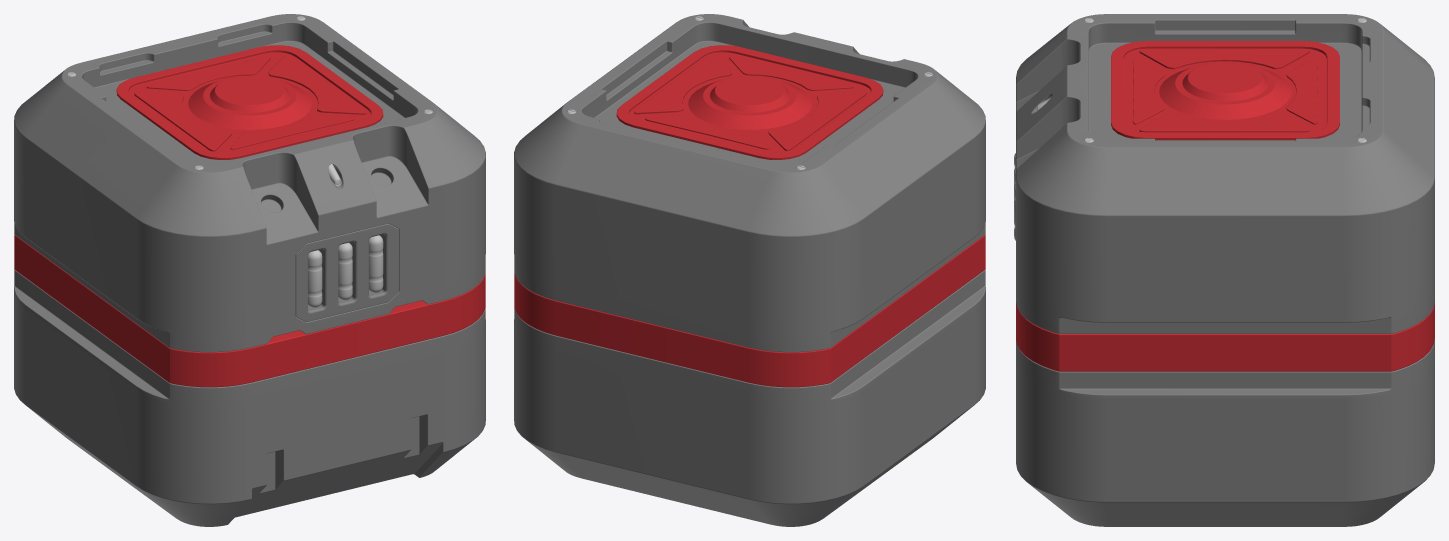
Rendered from SmartBox.glb.
The picture shows the model from 3 angles, left to right: view 1: azimuth 30°, elevation 25°; view 2: azimuth 150°, elevation 25°; view 3: azimuth 270°, elevation 25°; orthographic projection. The views are drawn at different scales.
Visible parts, largest first — view 1: Cube.011, Plane.002, Cube, Cube.005, Sphere; view 2: Cube.011, Plane.002, Cube; view 3: Cube.011, Plane.002, Cube.
Part boxes in pixels (x1,y1,x2,y2): Cube.011: [14, 14, 485, 526]; Plane.002: [116, 45, 383, 159]; Cube: [14, 234, 485, 387]; Cube.005: [295, 223, 398, 322]; Sphere: [308, 235, 383, 307]; Cube.011: [514, 14, 985, 526]; Plane.002: [616, 45, 883, 159]; Cube: [514, 234, 985, 387]; Cube.011: [1016, 14, 1434, 526]; Plane.002: [1111, 41, 1339, 140]; Cube: [1016, 301, 1434, 371].
Size of the model in its own units: 2 by 2.02 by 2.01.
